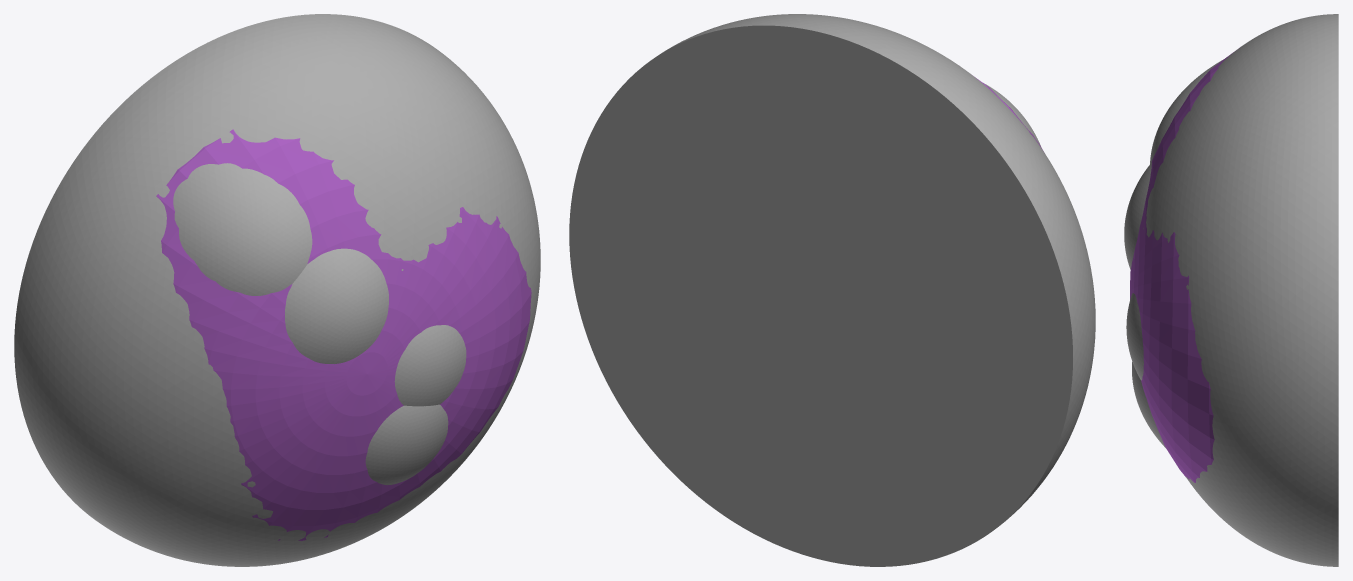
File: G05_A2_ALIGNED_GT.glb
3 renders of one model, left to right at view 1: azimuth 30°, elevation 25°; view 2: azimuth 150°, elevation 25°; view 3: azimuth 270°, elevation 25°, orthographic. The views are drawn at different scales.
Parts seen in each view (by area): view 1: Independent_GT, A2; view 2: Independent_GT; view 3: Independent_GT, A2.
Boxes of the visible parts, <box> form: Independent_GT: <box>14,14,540,566</box>; A2: <box>156,129,531,541</box>; Independent_GT: <box>569,14,1095,566</box>; Independent_GT: <box>1124,14,1338,566</box>; A2: <box>1130,47,1239,482</box>.
Size of the model in its own units: 0.018 by 0.018 by 0.00699.
